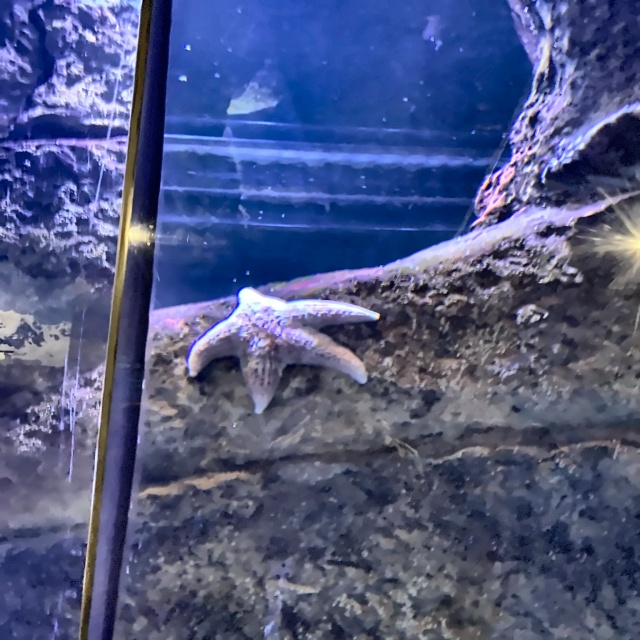starfish: (191, 284, 388, 403)
